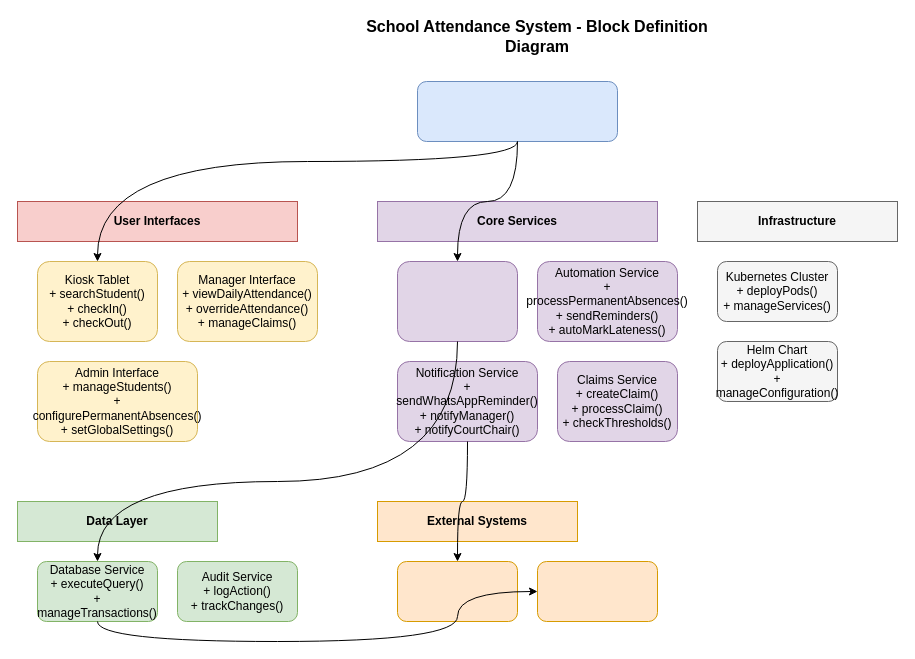
The diagram is 915 pixels wide and 659 high, and some of its shapes have lost their labels. The shapes that lost their labels are listed below. From the top down, each one's box as (x1, y1, x2, y2) in pixels, then its label:
(416, 80, 618, 142): Attendance System
(396, 260, 518, 342): Attendance Service + recordAttendance() + updateStatus() + processOverride()
(396, 560, 518, 622): WhatsApp API + sendMessage() + validateNumber()
(536, 560, 658, 622): PostgreSQL DB + storeData() + retrieveData()
